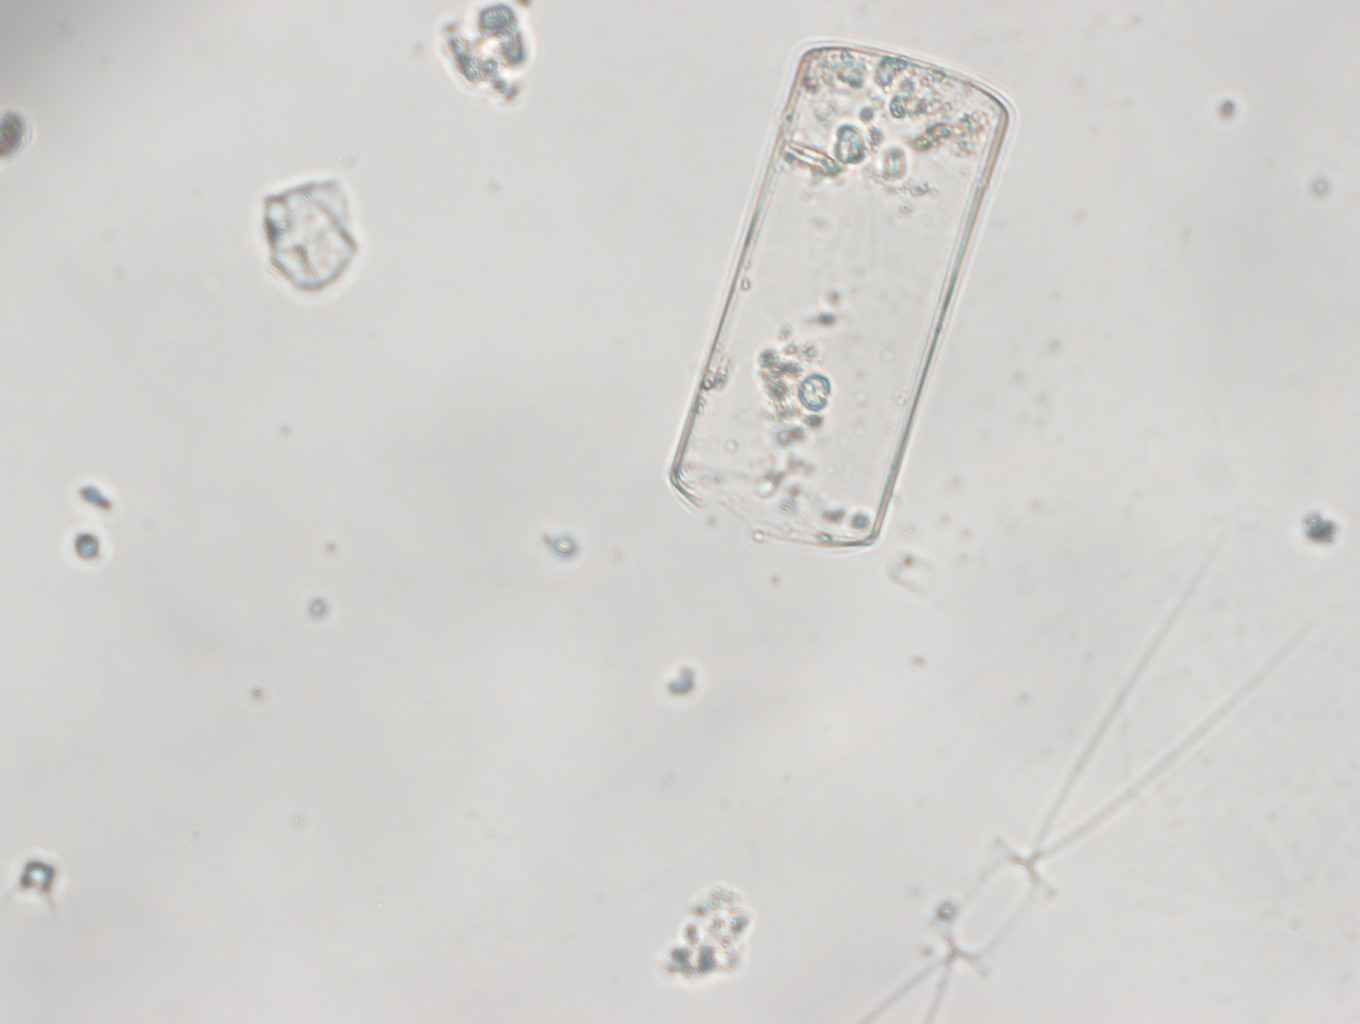chaetoceros: (863, 542, 1318, 1024)
guinardia flaccida: (667, 37, 1017, 552)
